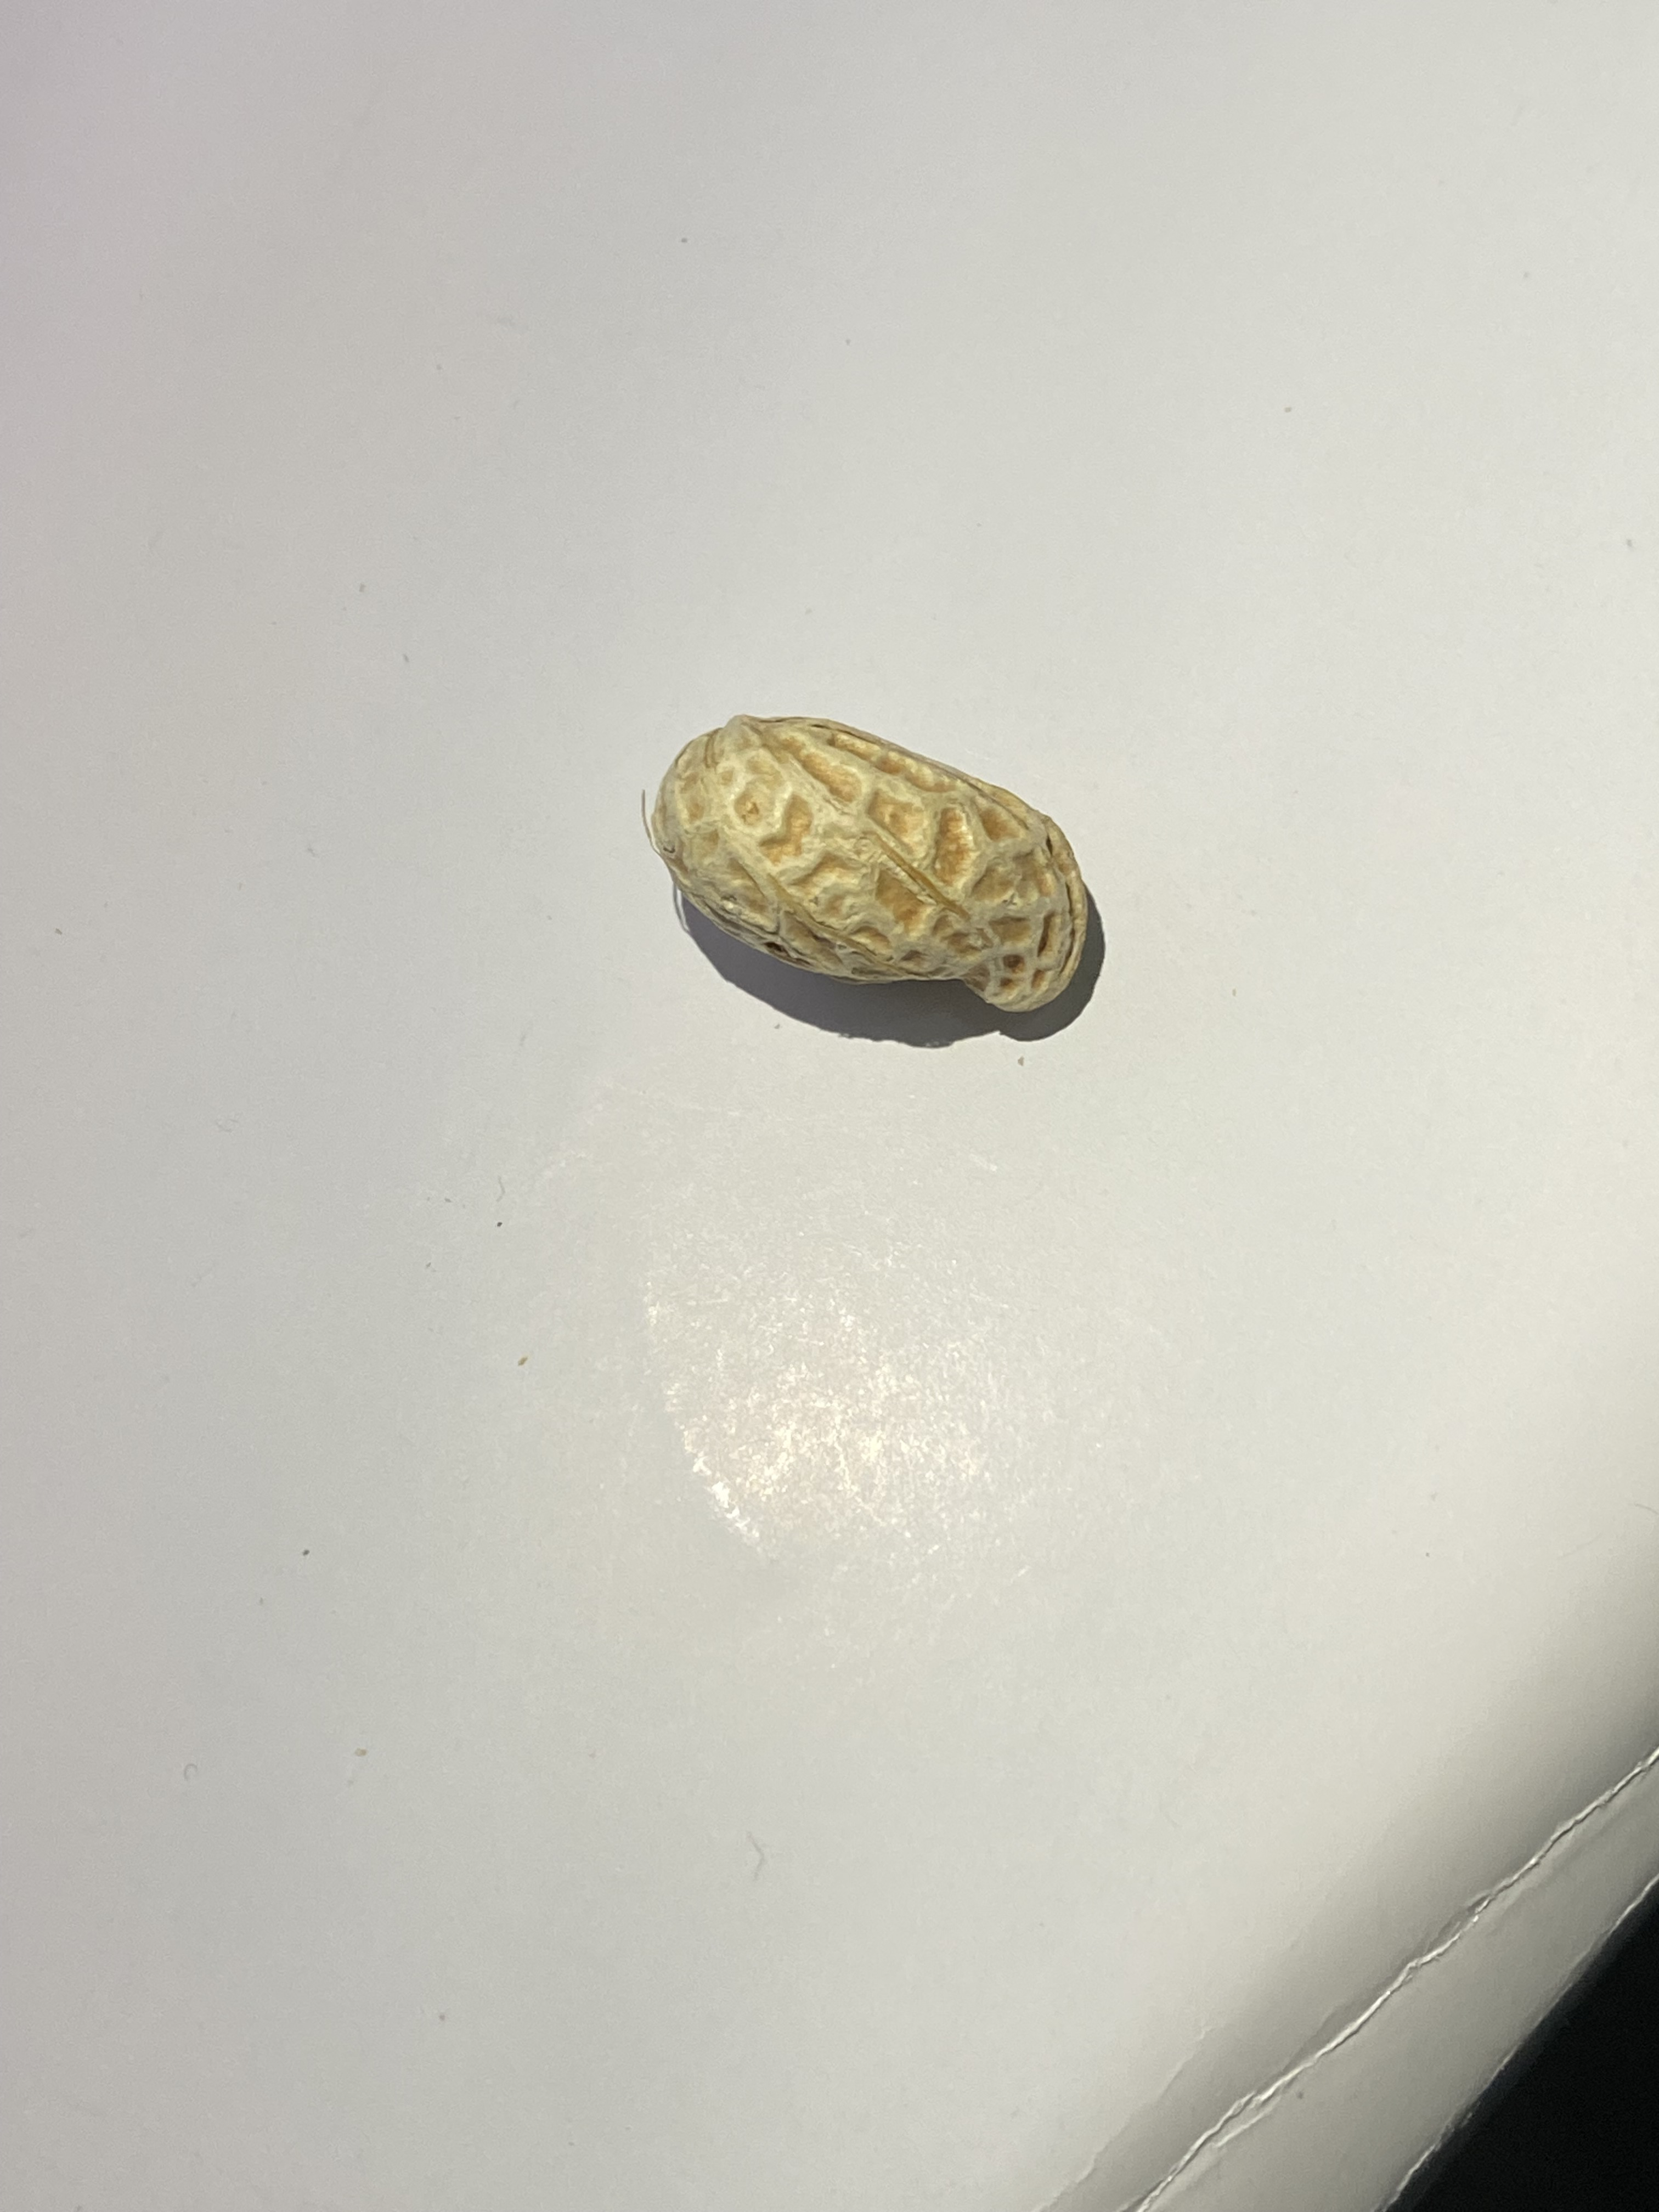kacang1: (633, 678, 1119, 1038)
